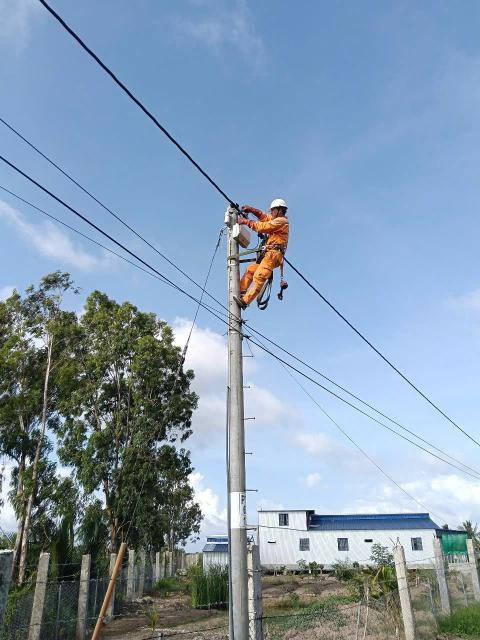gloves: (242, 202, 266, 221), (235, 218, 254, 230)
harness: (249, 244, 289, 257)
helmet: (268, 196, 295, 212)
shoes: (232, 292, 250, 312)
